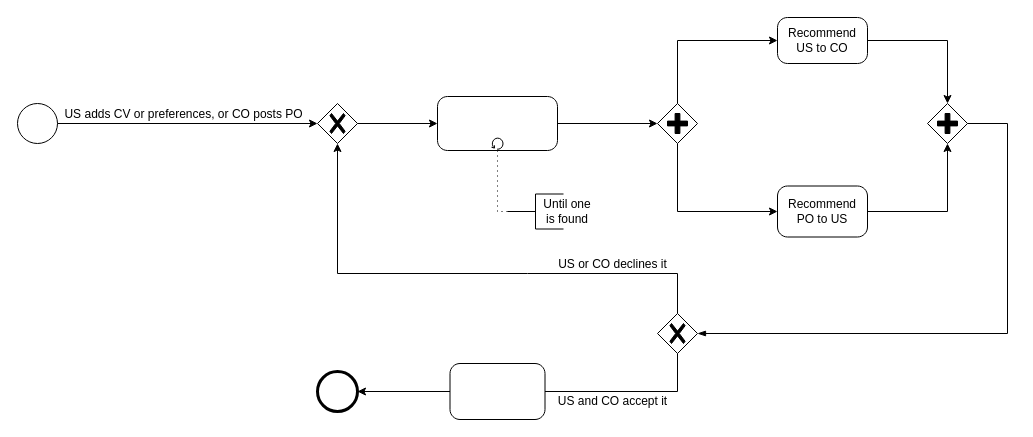
Some shapes in this 1033 by 437 pixel diagram are drawn without their labels. The shapes that lost their labels are listed below. From the top down, each one's centre as x and y in pixels, then its label:
the point at 497,123: Check for matches
the point at 497,391: Notify match to US and CO
